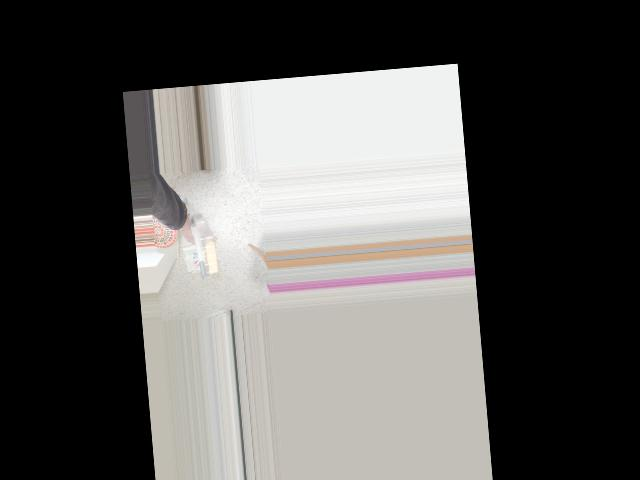cheese: (157, 223, 236, 281)
